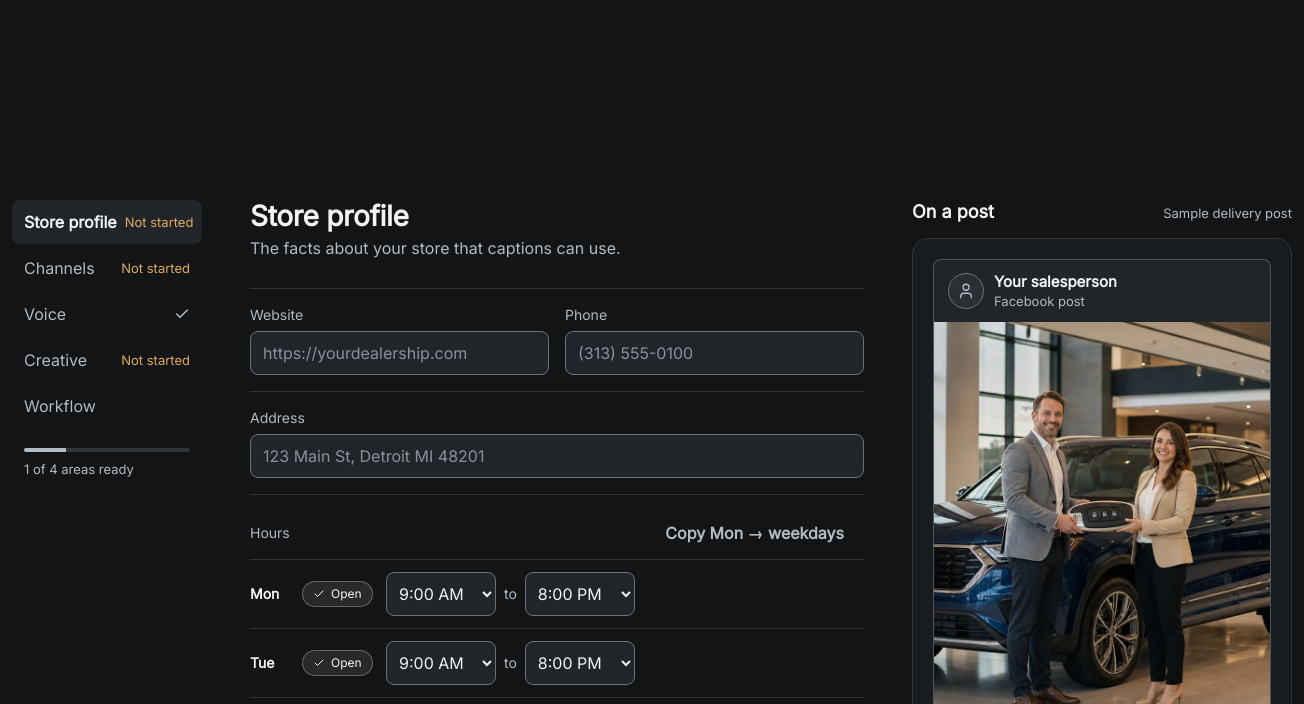
Test: dealer Brand section › uses the section rail to show one focused section at a time
The width and height of the screenshot is (1304, 704).
(page scrolled)
Expected: the field labelled "Website" is shown, [250,331,549,375]
Click the button "Creative Not started" at (107, 360), box [12,338,202,382]
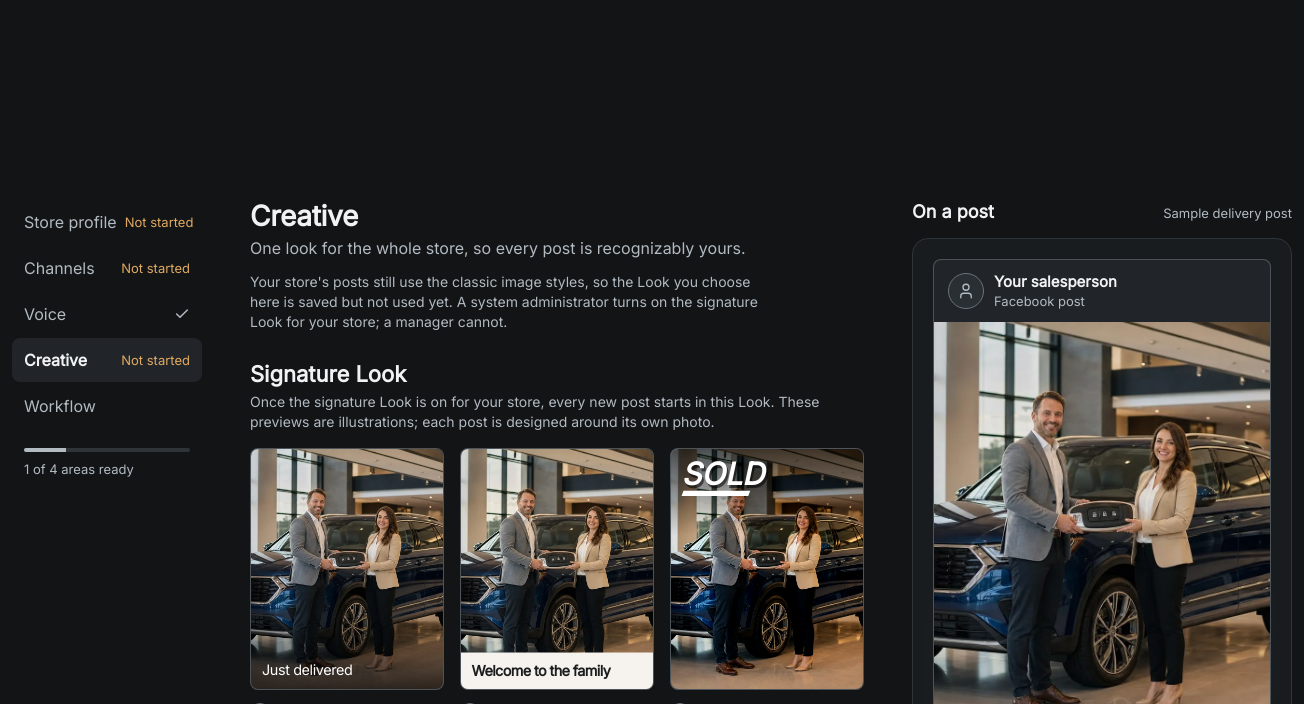
Expected: the heading "Creative" is shown, [250,199,358,233]
Expected: the label labelled "Website" is gone
